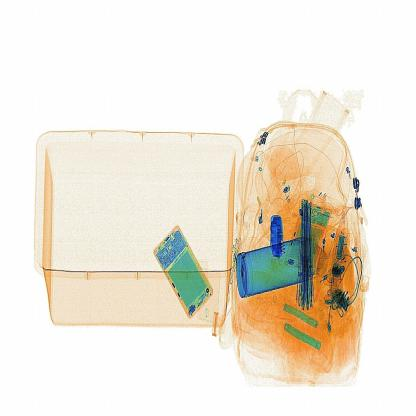scissors: (264, 206, 288, 262)
